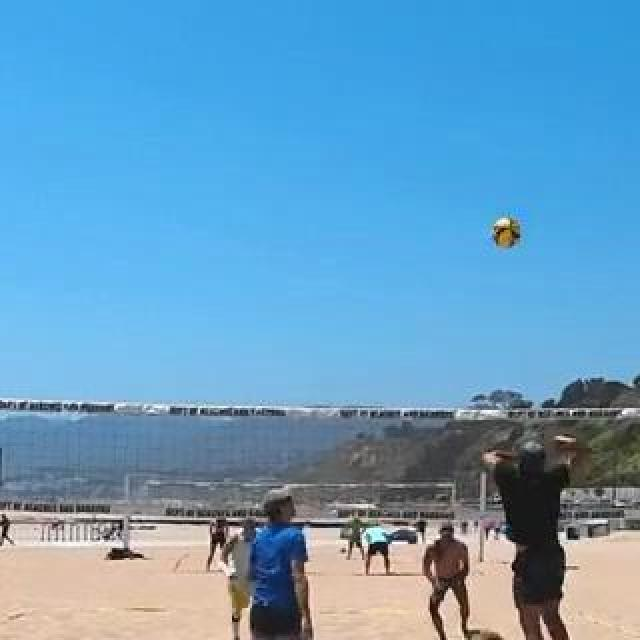volleyball: (493, 219, 525, 249)
